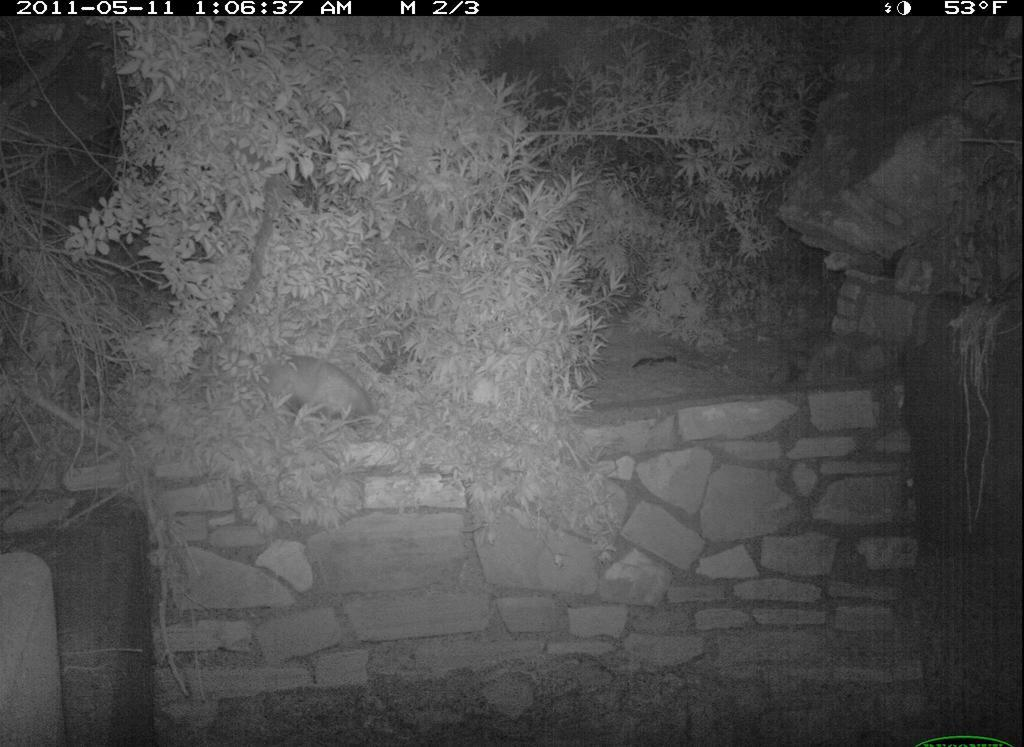opossum: (250, 344, 392, 437)
